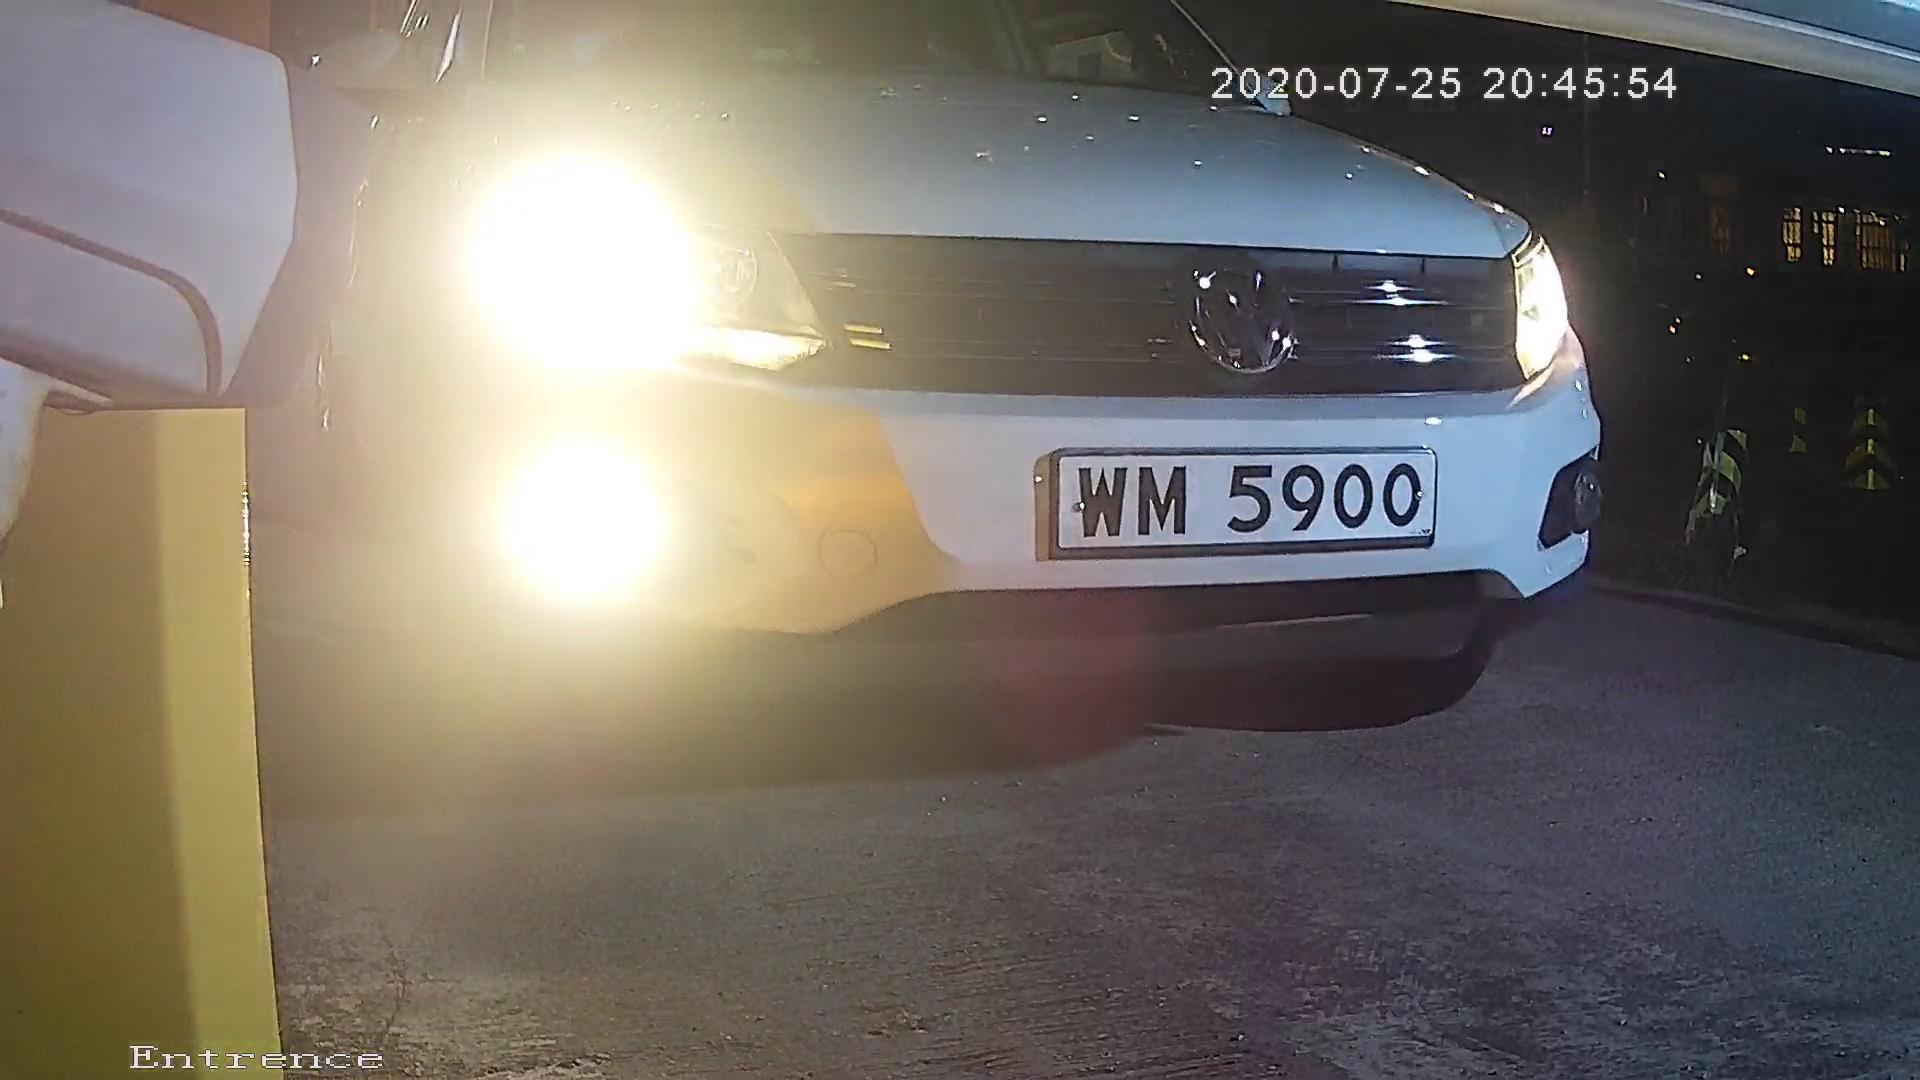privatecar: (386, 1, 1681, 748)
